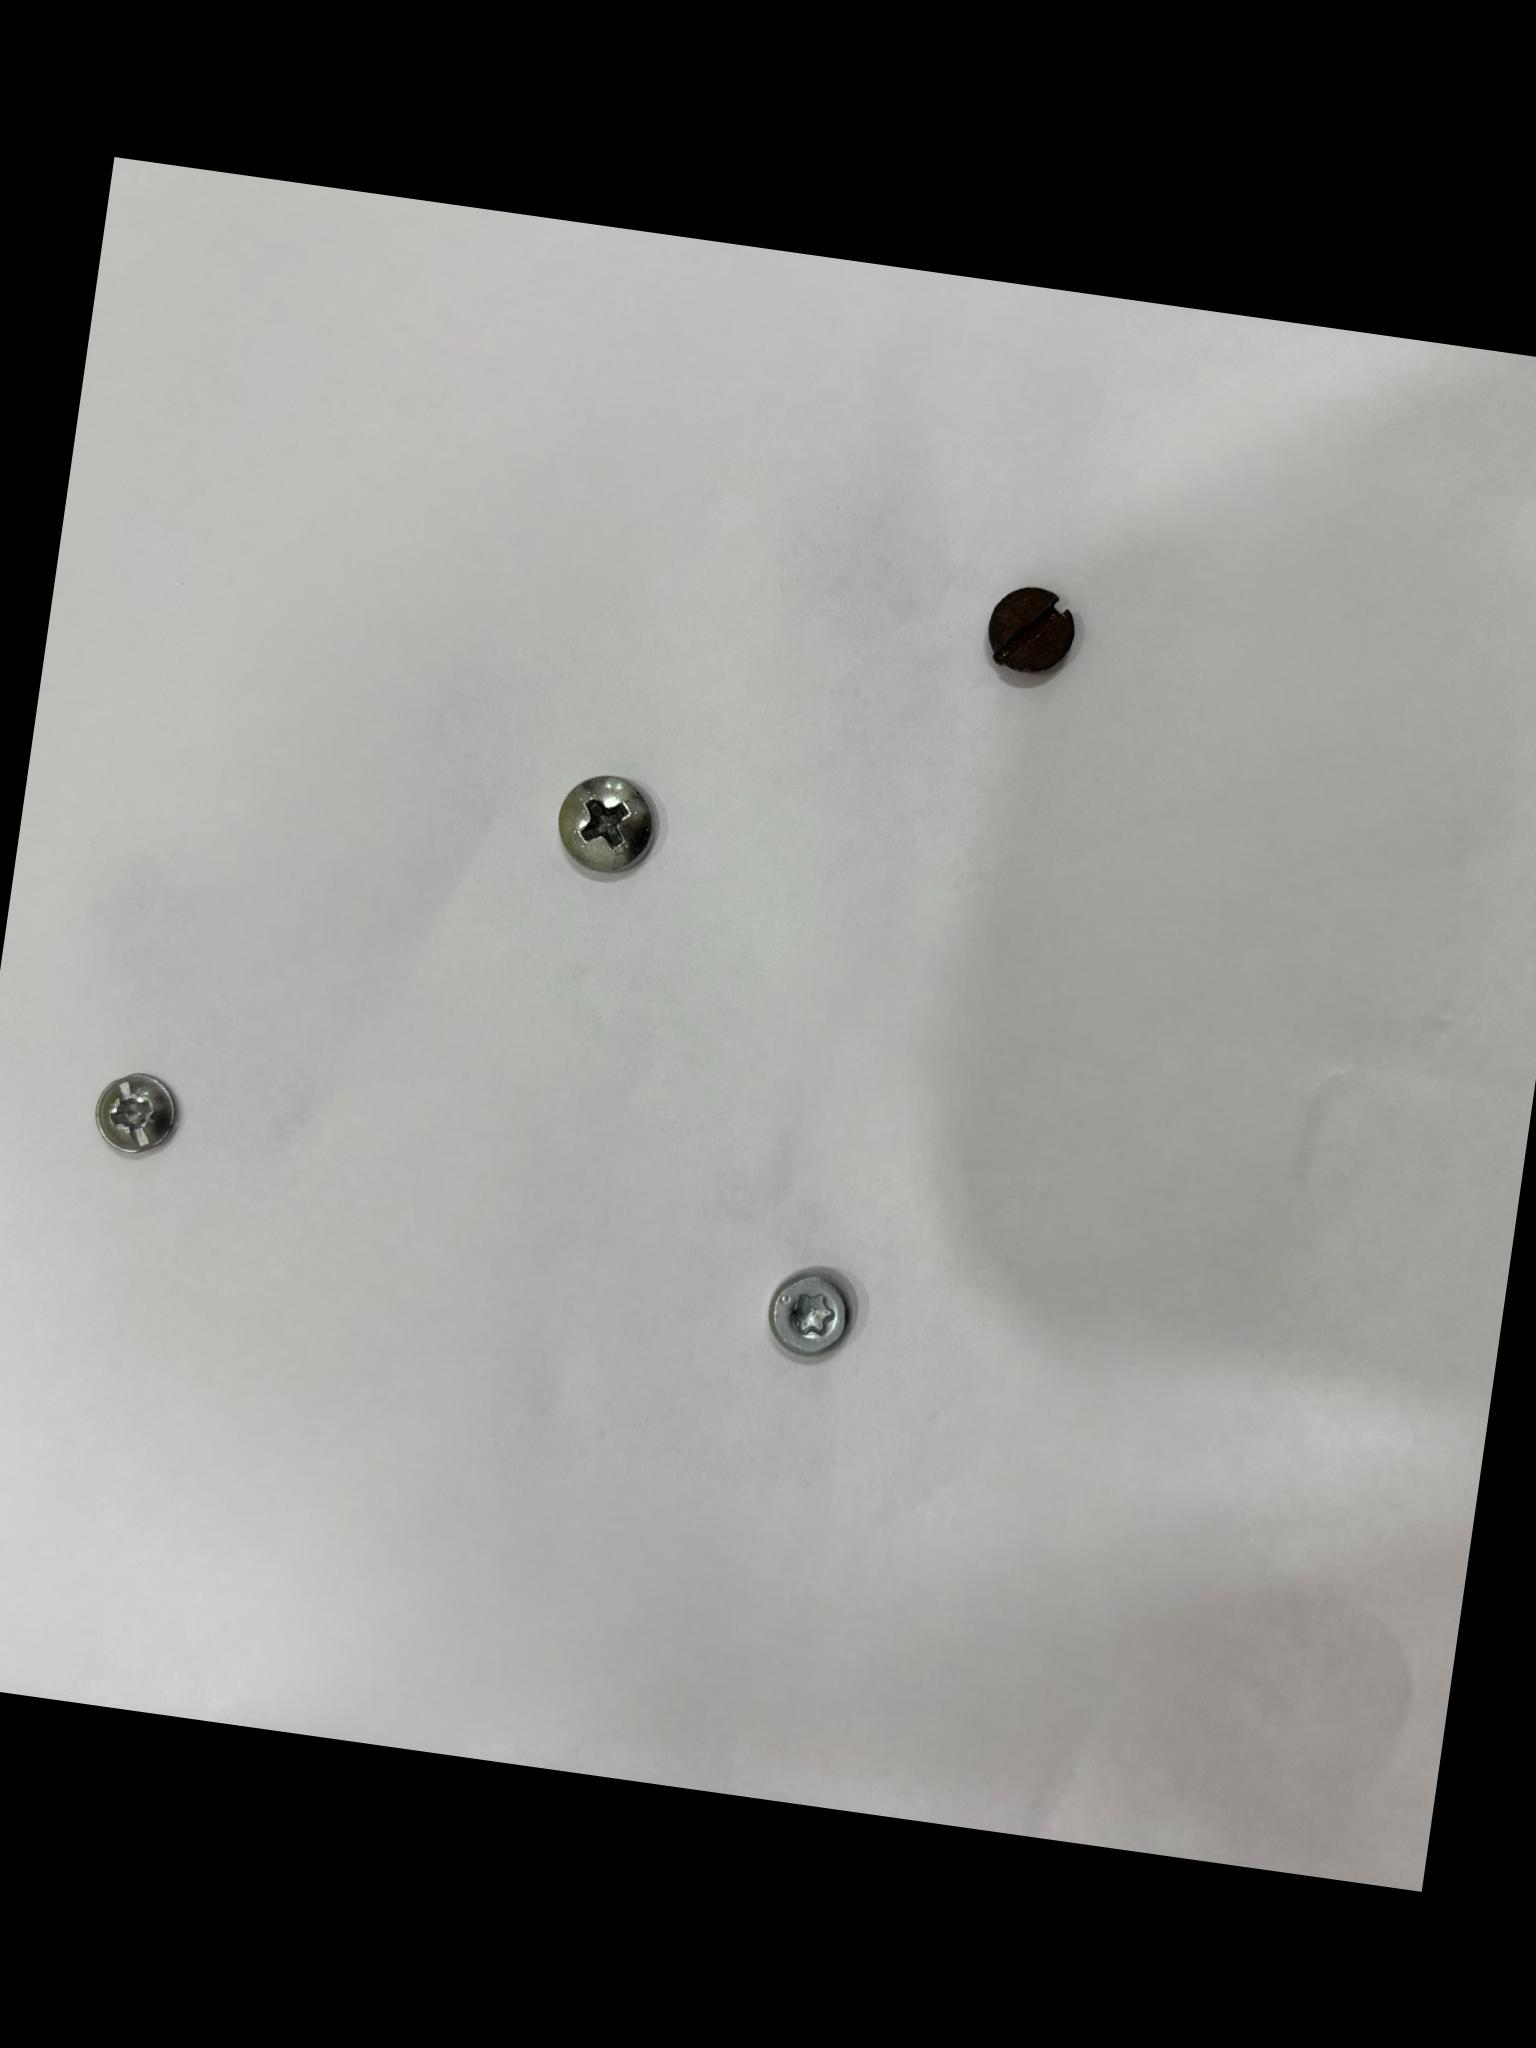PH: (557, 776, 657, 876)
PZ: (95, 1072, 176, 1155)
SL: (987, 587, 1075, 672)
T: (768, 1268, 850, 1358)
